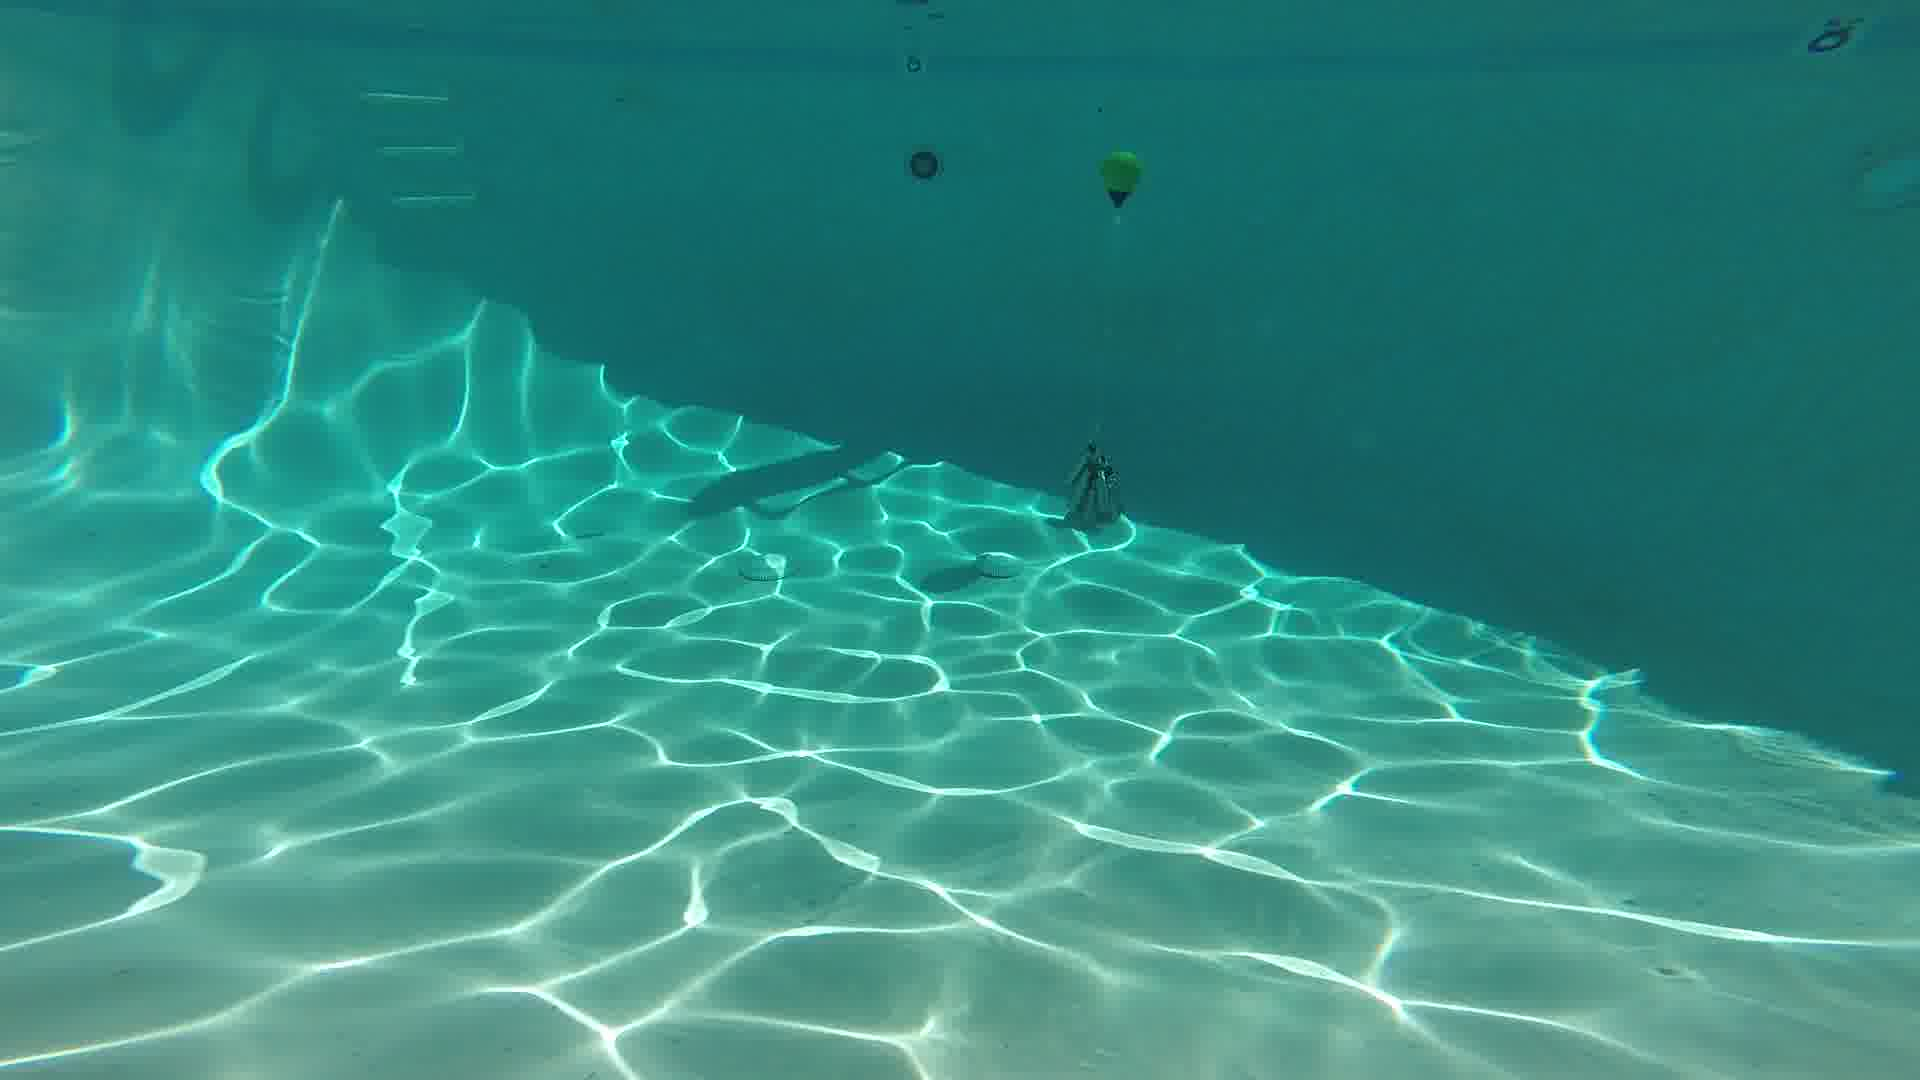yellow_buoy: (1102, 150, 1139, 212)
